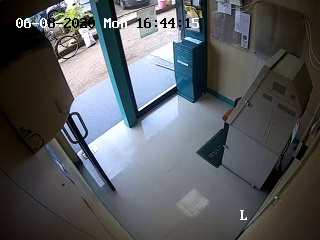open: (32, 5, 136, 199)
